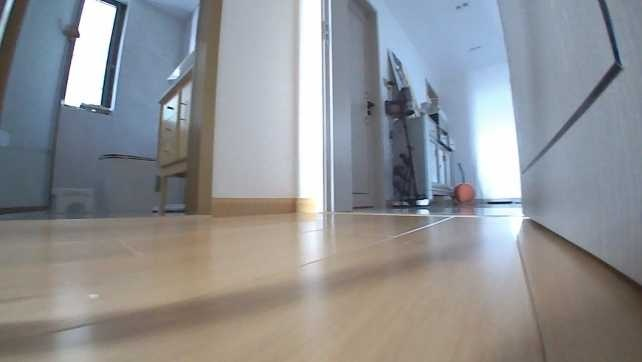door_anno: (0, 0, 90, 210), (349, 0, 379, 208)
door_sill: (0, 211, 210, 229)
toilet: (95, 151, 157, 214)
washstand: (153, 65, 191, 208)
